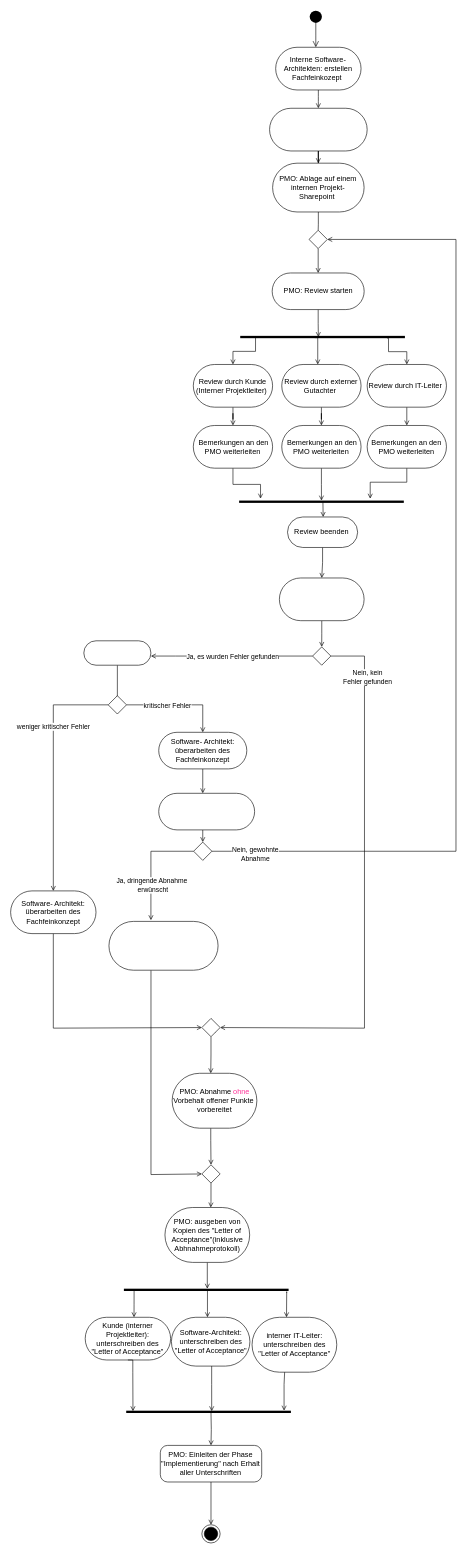
Image size: 472x1554. Some labels were removed from this diagram. Here are the shapes that lost their labels. From the top down, the centre of each, then its label:
(318,129): PMO: erhalten der zu kontrollierende Dokumente und diese aufarbeiten
(321,599): PMO: aufbereiten der Reviews & Gesamtbewertung
(117,652): Fehlerart bestimmen
(206,811): Überprüfung der Abnahme auf Dringlichkeit
(163,945): Abnahme mit Vorbehalt über eine ggf. nicht doppeltkontrollierte Korrektur
